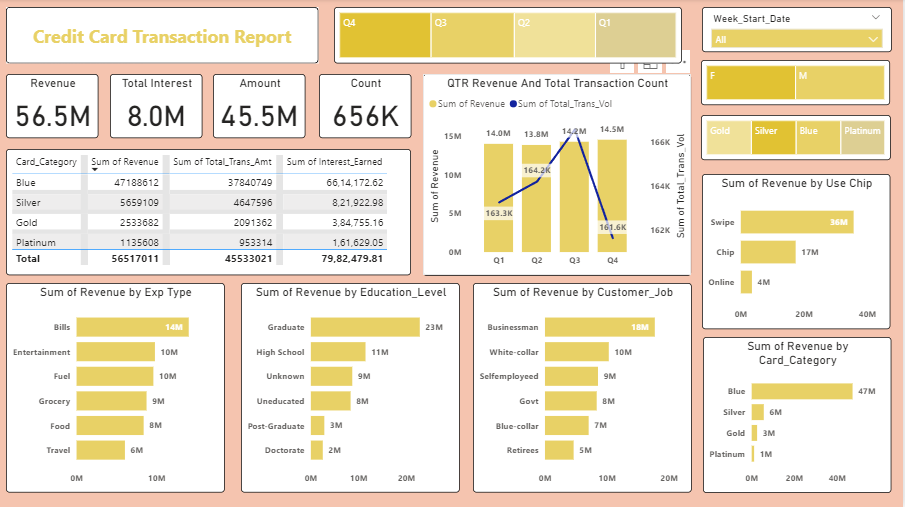

Layout of this report page (visuals, bound fields, positions):
{"tool":"powerbi","page":{"name":"cc transaction","canvas":[1280,720],"ordinal":1},"visuals":[{"type":"shape","box":[10,11.4,442.9,80],"z":0},{"type":"lineStackedColumnComboChart","title":"QTR Revenue And Total Transaction Count","fields":{"Category":["credit_card.Qtr"],"Y":["Sum(credit_card.Revenue)"],"Y2":["Sum(credit_card.Total_Trans_Vol)"]},"box":[601.4,105.7,380,285.7],"z":1000},{"type":"barChart","fields":{"Y":["Sum(credit_card.Revenue)"],"Category":["credit_card.Exp Type"]},"box":[10,402.9,310,297.1],"z":2000},{"type":"barChart","fields":{"Y":["Sum(credit_card.Revenue)"],"Category":["customer.Education_Level"]},"box":[342.9,402.9,310,297.1],"z":3000},{"type":"barChart","fields":{"Y":["Sum(credit_card.Revenue)"],"Category":["customer.Customer_Job"]},"box":[671.4,402.9,310,297.1],"z":4000},{"type":"barChart","fields":{"Y":["Sum(credit_card.Revenue)"],"Category":["credit_card.Card_Category"]},"box":[997.1,478.6,267.1,221.4],"z":5000},{"type":"barChart","fields":{"Y":["Sum(credit_card.Revenue)"],"Category":["credit_card.Use Chip"]},"box":[995.7,248.6,267.1,220],"z":6000},{"type":"tableEx","fields":{"Values":["credit_card.Card_Category","Sum(credit_card.Revenue)","Sum(credit_card.Total_Trans_Amt)","Sum(credit_card.Interest_Earned)"]},"box":[10,212.9,574.3,178.6],"z":7000},{"type":"card","title":"Revenue","fields":{"Values":["Sum(credit_card.Revenue)"]},"box":[10,105.7,131.4,91.4],"z":8000},{"type":"card","title":" Total Interest","fields":{"Values":["Sum(credit_card.Interest_Earned)"]},"box":[157.1,105.7,131.4,91.4],"z":9000},{"type":"card","title":"Amount","fields":{"Values":["Sum(credit_card.Total_Trans_Amt)"]},"box":[302.9,105.7,131.4,91.4],"z":10000},{"type":"card","title":"Count","fields":{"Values":["Sum(credit_card.Total_Trans_Vol)"]},"box":[452.9,105.7,131.4,91.4],"z":11000},{"type":"slicer","fields":{"Values":["credit_card.Week_Start_Date"]},"box":[995.7,11.4,268.6,64.3],"z":12000},{"type":"treemap","fields":{"Group":["credit_card.Qtr"],"Values":["Avg(customer.Client_Num)"]},"box":[474.3,11.4,492.9,80],"z":13000},{"type":"treemap","fields":{"Values":["Avg(customer.Client_Num)"],"Group":["customer.Gender"]},"box":[994.3,87.1,268,64.3],"z":14000},{"type":"treemap","fields":{"Values":["Avg(customer.Client_Num)"],"Group":["credit_card.Card_Category"]},"box":[994.3,164.3,268.6,64.3],"z":15000}]}

Visuals, with their boxes in screenshot pixels (x1, y1, x2, y2), scaled from the page's 1280x720 canvas onto the 905x507 screenshot:
shape: left=7, top=8, right=320, bottom=64
"QTR Revenue And Total Transaction Count" lineStackedColumnComboChart: left=425, top=74, right=694, bottom=276
barChart - Sum(credit_card.Revenue) x credit_card.Exp Type: left=7, top=284, right=226, bottom=493
barChart - Sum(credit_card.Revenue) x customer.Education_Level: left=242, top=284, right=462, bottom=493
barChart - Sum(credit_card.Revenue) x customer.Customer_Job: left=475, top=284, right=694, bottom=493
barChart - Sum(credit_card.Revenue) x credit_card.Card_Category: left=705, top=337, right=894, bottom=493
barChart - Sum(credit_card.Revenue) x credit_card.Use Chip: left=704, top=175, right=893, bottom=330
tableEx - credit_card.Card_Category x Sum(credit_card.Revenue): left=7, top=150, right=413, bottom=276
"Revenue" card: left=7, top=74, right=100, bottom=139
" Total Interest" card: left=111, top=74, right=204, bottom=139
"Amount" card: left=214, top=74, right=307, bottom=139
"Count" card: left=320, top=74, right=413, bottom=139
slicer - credit_card.Week_Start_Date: left=704, top=8, right=894, bottom=53
treemap - credit_card.Qtr x Avg(customer.Client_Num): left=335, top=8, right=684, bottom=64
treemap - Avg(customer.Client_Num) x customer.Gender: left=703, top=61, right=892, bottom=107
treemap - Avg(customer.Client_Num) x credit_card.Card_Category: left=703, top=116, right=893, bottom=161
